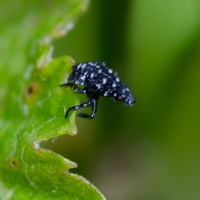insect: (62, 61, 134, 118)
